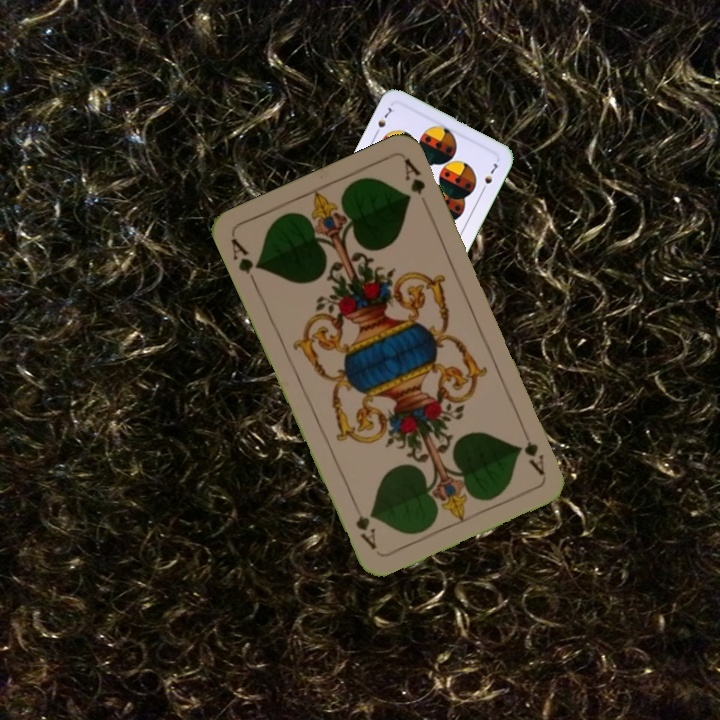GA: (226, 234, 264, 290), (519, 422, 548, 478)
S7: (370, 103, 397, 139)
